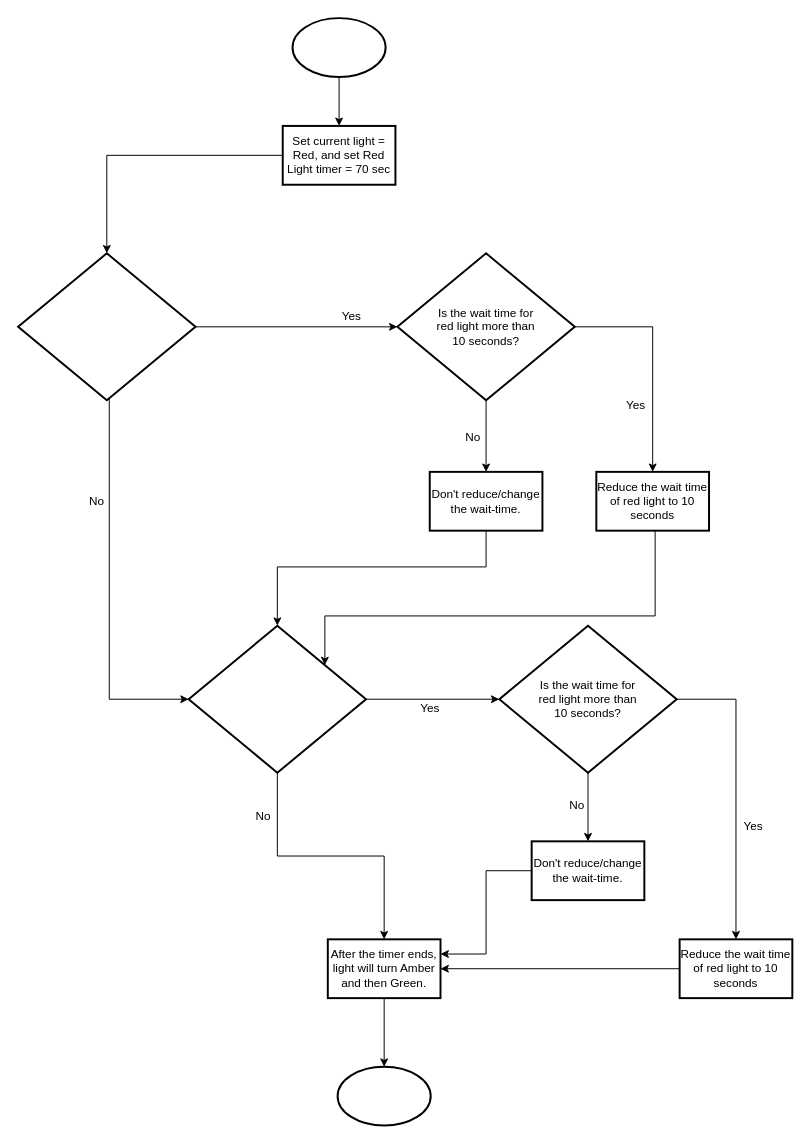
Some shapes in this 809 by 1143 pixel diagram are drawn without their labels. The centre of each missing label's shape, as x and y in pixels:
"Are there more than 5 cars waiting?" belongs at (x=106, y=326).
"End" belongs at (x=383, y=1095).
"Is the Request-To-Walk button pushed/activated?" belongs at (x=277, y=698).
"Start" belongs at (x=338, y=47).
